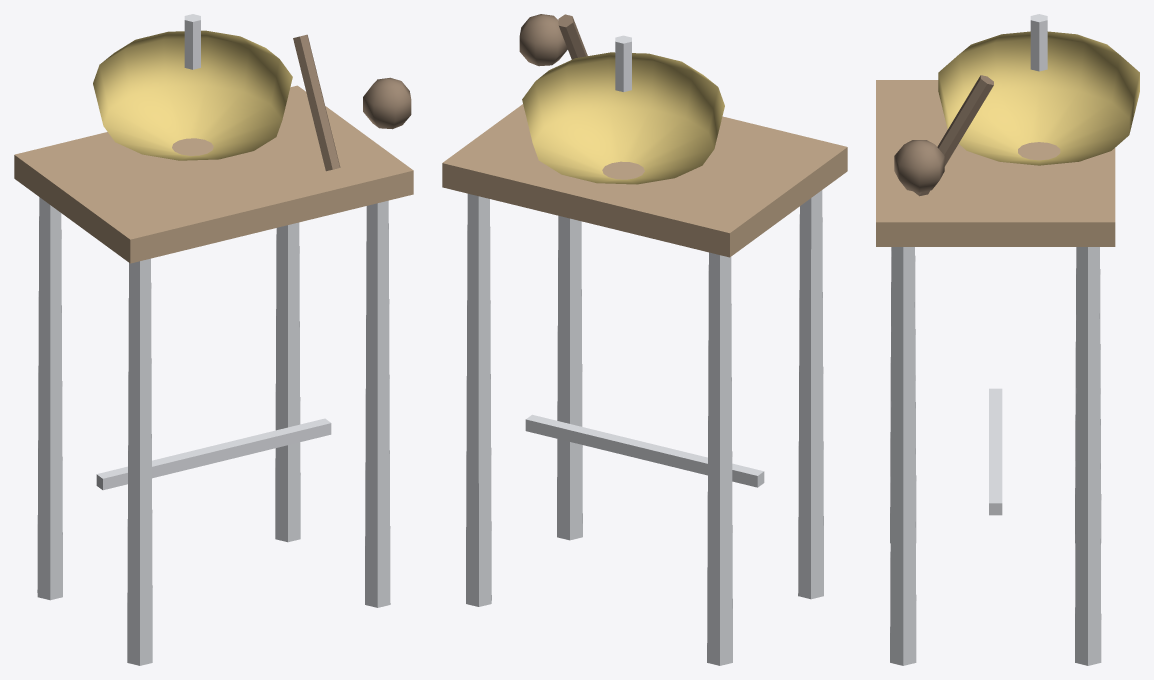
File: ring_bell.glb
3 renders of one model, left to right at view 1: azimuth 30°, elevation 25°; view 2: azimuth 150°, elevation 25°; view 3: azimuth 270°, elevation 25°, orthographic. The views are drawn at different scales.
Visible parts, largest first — view 1: ring-bell; view 2: ring-bell; view 3: ring-bell.
Boxes of the visible parts, left/top/right/bottom form: ring-bell: left=14, top=14, right=413, bottom=665; ring-bell: left=442, top=14, right=847, bottom=665; ring-bell: left=876, top=14, right=1139, bottom=665.
Bounding box in the file's own units: 0.6576 × 1.18 × 0.4852.
